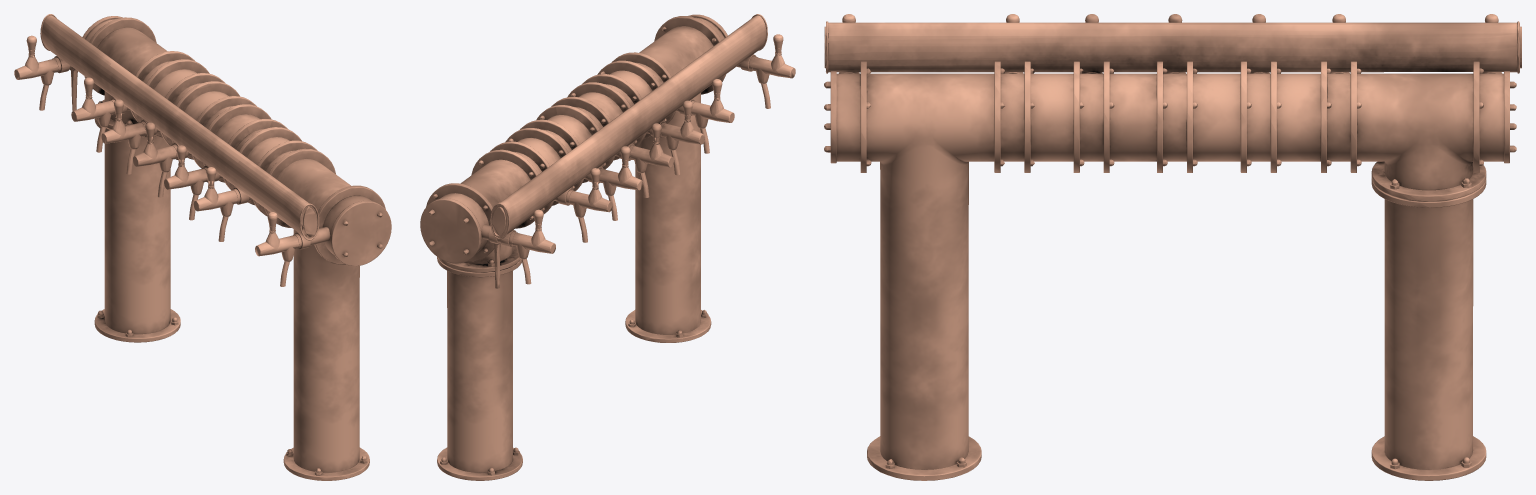
Rendered from SM_BeerMachineLow.fbx.
The picture shows the model from 3 angles, left to right: view 1: azimuth 30°, elevation 25°; view 2: azimuth 150°, elevation 25°; view 3: azimuth 270°, elevation 25°; orthographic projection. The views are drawn at different scales.
Visible parts, largest first — view 1: SM_BeerMachineLow_LOD0; view 2: SM_BeerMachineLow_LOD0; view 3: SM_BeerMachineLow_LOD0.
Boxes of the visible parts, x1=… form: SM_BeerMachineLow_LOD0: x1=14, y1=14, x2=391, y2=480; SM_BeerMachineLow_LOD0: x1=420, y1=14, x2=795, y2=480; SM_BeerMachineLow_LOD0: x1=824, y1=14, x2=1521, y2=480.
Bounding box in the file's own units: 29.95 × 101 × 63.96.
1 material, 1 textured.
